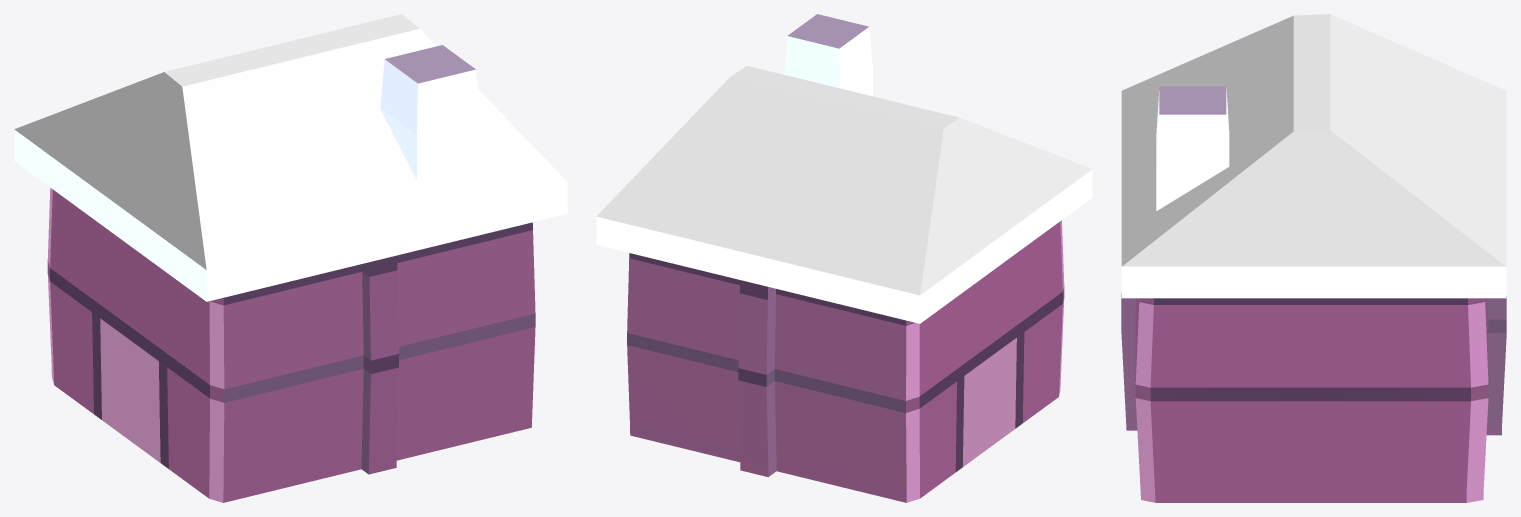
Rendered from house04.fbx.
3 views of the same model, side by side, from view 1: azimuth 30°, elevation 25°; view 2: azimuth 150°, elevation 25°; view 3: azimuth 270°, elevation 25° (orthographic). The views are drawn at different scales.
Parts seen in each view (by area): view 1: Cube.006, Cube.002, Cube.003, Cube.000, Cube.005, Cube.004; view 2: Cube.002, Cube.006, Cube.003, Cube.000, Cube.005, Cube.004; view 3: Cube.002, Cube.006, Cube.003, Cube.004, Cube.000, Cube.005.
Boxes of the visible parts, x1=… form: Cube.006: x1=47, y1=189, x2=535, y2=502; Cube.002: x1=14, y1=14, x2=567, y2=269; Cube.003: x1=14, y1=59, x2=567, y2=301; Cube.000: x1=47, y1=188, x2=224, y2=502; Cube.005: x1=224, y1=45, x2=535, y2=474; Cube.004: x1=50, y1=222, x2=532, y2=468; Cube.002: x1=596, y1=65, x2=1092, y2=295; Cube.006: x1=627, y1=221, x2=1064, y2=502; Cube.003: x1=596, y1=27, x2=1092, y2=323; Cube.000: x1=906, y1=220, x2=1064, y2=502; Cube.005: x1=627, y1=14, x2=905, y2=476; Cube.004: x1=629, y1=253, x2=1062, y2=471; Cube.002: x1=1121, y1=14, x2=1506, y2=266; Cube.006: x1=1121, y1=294, x2=1506, y2=502; Cube.003: x1=1121, y1=87, x2=1506, y2=298; Cube.004: x1=1150, y1=298, x2=1485, y2=401; Cube.000: x1=1135, y1=302, x2=1488, y2=502; Cube.005: x1=1121, y1=86, x2=1506, y2=435.
Size of the model in its own units: 4.19 by 4.02 by 3.87.
